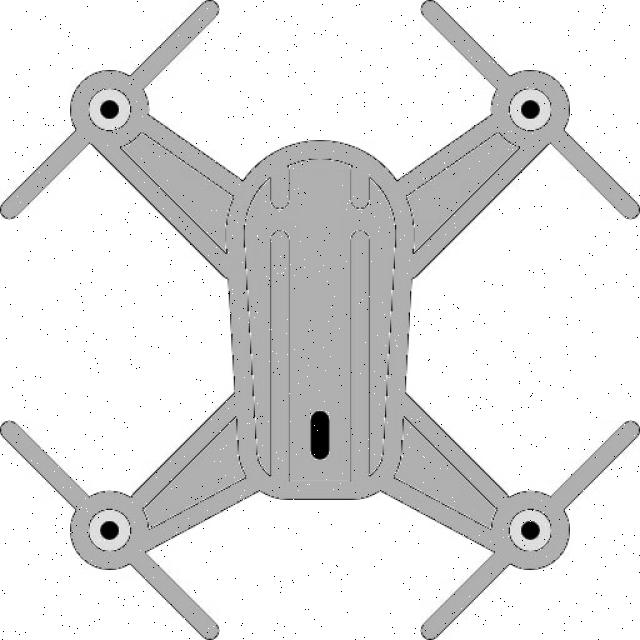drone: (3, 2, 640, 640)
